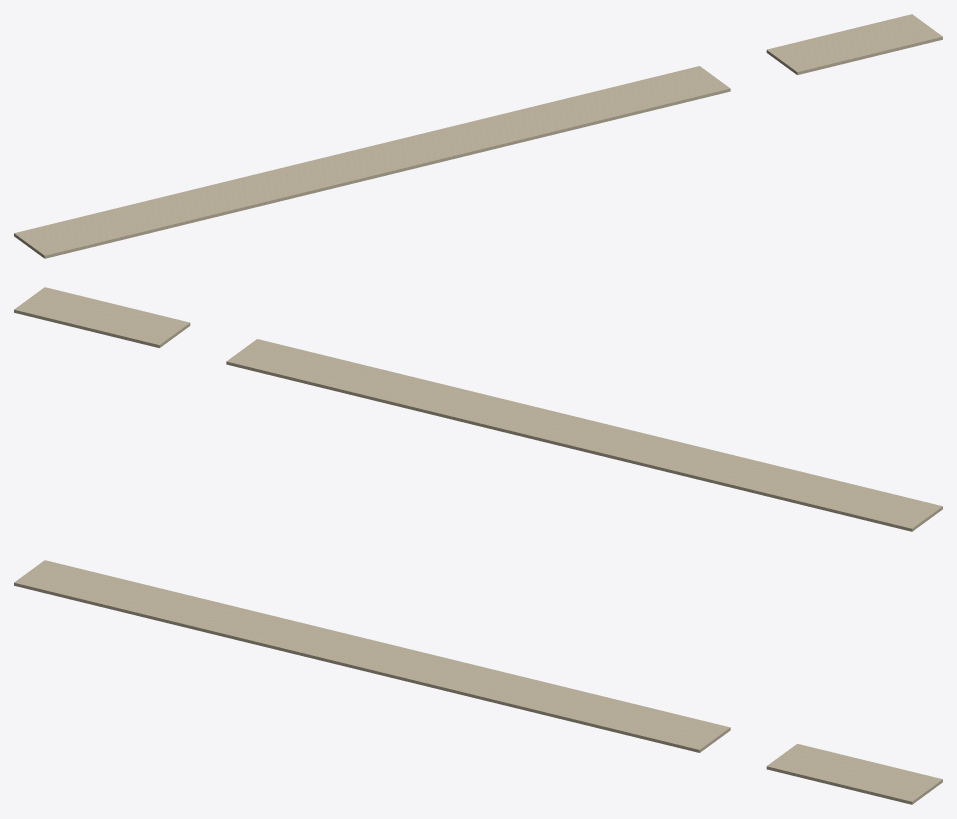
Rendered from LINK_D09_SF145__floor.glb.
3 renders of one model, top to bottom at view 1: azimuth 30°, elevation 25°; view 2: azimuth 150°, elevation 25°; view 3: azimuth 330°, elevation 25°, orthographic.
Visible parts, largest first — view 1: LINK_D09_SF145__floor__warm_stone; view 2: LINK_D09_SF145__floor__warm_stone; view 3: LINK_D09_SF145__floor__warm_stone.
Part boxes in pixels (<box>): LINK_D09_SF145__floor__warm_stone: <box>14,14,942,258</box>; LINK_D09_SF145__floor__warm_stone: <box>14,287,942,531</box>; LINK_D09_SF145__floor__warm_stone: <box>14,560,942,804</box>.
Bounding box in the file's own units: 74 × 0.24 × 4.4.
Materials: 1 (1 with a texture image).
